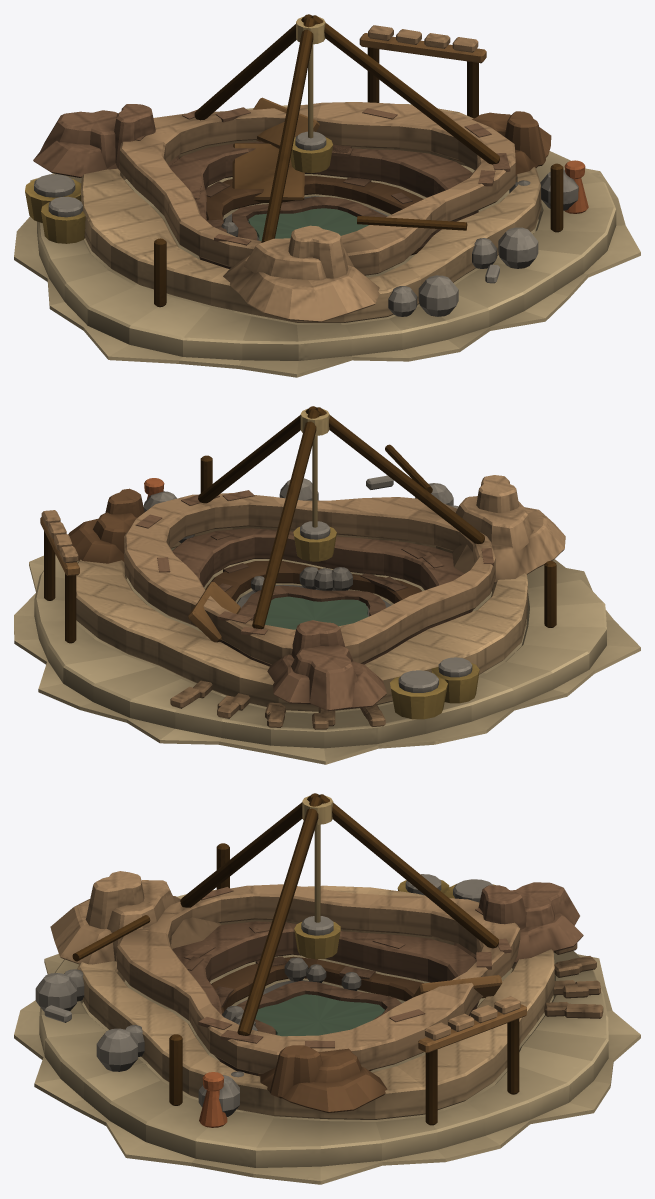
The model's file is river_clay_pit.glb.
The picture shows the model from 3 angles, top to bottom: view 1: azimuth 30°, elevation 25°; view 2: azimuth 150°, elevation 25°; view 3: azimuth 270°, elevation 25°; orthographic projection. The views are drawn at different scales.
Visible parts, largest first — view 1: river_clay_pit_sand_spit, river_clay_pit_mud_terra, river_clay_pit_mud_tan, river_clay_pit_mud_dark, river_clay_pit_wood_dark, river_clay_pit_clay_grey, river_clay_pit_soil_dark, river_clay_pit_wood_mid, river_clay_pit_thatch_dark, river_clay_pit_channel_water, river_clay_pit_brick_sand, river_clay_pit_rope_tan (+1 smaller); view 2: river_clay_pit_sand_spit, river_clay_pit_mud_terra, river_clay_pit_mud_tan, river_clay_pit_mud_dark, river_clay_pit_wood_dark, river_clay_pit_soil_dark, river_clay_pit_clay_grey, river_clay_pit_thatch_dark, river_clay_pit_brick_sand, river_clay_pit_channel_water, river_clay_pit_wood_mid, river_clay_pit_rope_tan; view 3: river_clay_pit_sand_spit, river_clay_pit_mud_terra, river_clay_pit_mud_tan, river_clay_pit_mud_dark, river_clay_pit_wood_dark, river_clay_pit_soil_dark, river_clay_pit_clay_grey, river_clay_pit_brick_sand, river_clay_pit_channel_water, river_clay_pit_wood_mid, river_clay_pit_thatch_dark, river_clay_pit_rope_tan (+1 smaller).
Boxes of the visible parts, left/top/right/bottom form: river_clay_pit_sand_spit: left=14, top=104, right=640, bottom=377; river_clay_pit_mud_terra: left=119, top=102, right=515, bottom=322; river_clay_pit_mud_tan: left=80, top=104, right=541, bottom=322; river_clay_pit_mud_dark: left=33, top=104, right=510, bottom=268; river_clay_pit_wood_dark: left=154, top=14, right=563, bottom=307; river_clay_pit_clay_grey: left=34, top=131, right=578, bottom=316; river_clay_pit_soil_dark: left=206, top=111, right=551, bottom=255; river_clay_pit_wood_mid: left=232, top=33, right=486, bottom=202; river_clay_pit_thatch_dark: left=25, top=137, right=332, bottom=243; river_clay_pit_channel_water: left=248, top=208, right=368, bottom=241; river_clay_pit_brick_sand: left=368, top=25, right=478, bottom=52; river_clay_pit_rope_tan: left=296, top=16, right=325, bottom=138; river_clay_pit_sand_spit: left=14, top=547, right=640, bottom=764; river_clay_pit_mud_terra: left=124, top=475, right=565, bottom=664; river_clay_pit_mud_tan: left=76, top=526, right=527, bottom=711; river_clay_pit_mud_dark: left=135, top=490, right=493, bottom=711; river_clay_pit_wood_dark: left=44, top=406, right=556, bottom=643; river_clay_pit_soil_dark: left=68, top=488, right=421, bottom=603; river_clay_pit_clay_grey: left=143, top=475, right=472, bottom=692; river_clay_pit_thatch_dark: left=293, top=527, right=479, bottom=719; river_clay_pit_brick_sand: left=41, top=510, right=385, bottom=729; river_clay_pit_channel_water: left=265, top=596, right=368, bottom=629; river_clay_pit_wood_mid: left=40, top=517, right=240, bottom=642; river_clay_pit_rope_tan: left=300, top=408, right=329, bottom=527; river_clay_pit_sand_spit: left=14, top=888, right=640, bottom=1184; river_clay_pit_mud_terra: left=50, top=871, right=520, bottom=1073; river_clay_pit_mud_tan: left=77, top=885, right=554, bottom=1119; river_clay_pit_mud_dark: left=172, top=882, right=583, bottom=1075; river_clay_pit_wood_dark: left=72, top=793, right=519, bottom=1125; river_clay_pit_soil_dark: left=211, top=956, right=423, bottom=1112; river_clay_pit_clay_grey: left=35, top=874, right=492, bottom=1116; river_clay_pit_brick_sand: left=425, top=943, right=603, bottom=1040; river_clay_pit_channel_water: left=255, top=994, right=384, bottom=1036; river_clay_pit_wood_mid: left=412, top=975, right=526, bottom=1053; river_clay_pit_thatch_dark: left=294, top=879, right=495, bottom=959; river_clay_pit_rope_tan: left=302, top=795, right=333, bottom=922.
Size of the model in its own units: 3.05 by 1.2 by 2.83.
Materials: 13 (12 with a texture image).
